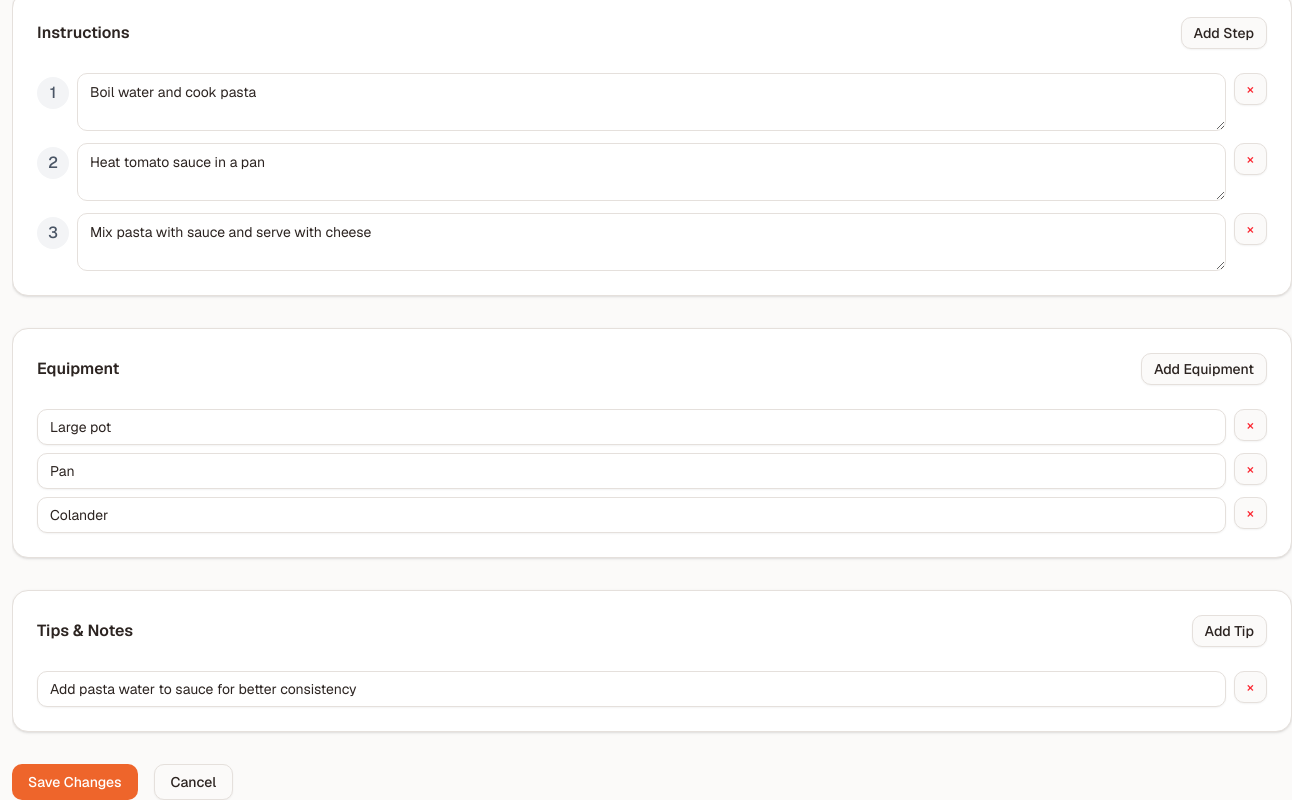
RecipeForm › adds tip when add button clicked
(page scrolled)
Click the button "Add Tip" at [1229, 631], box [1192,615,1267,647]
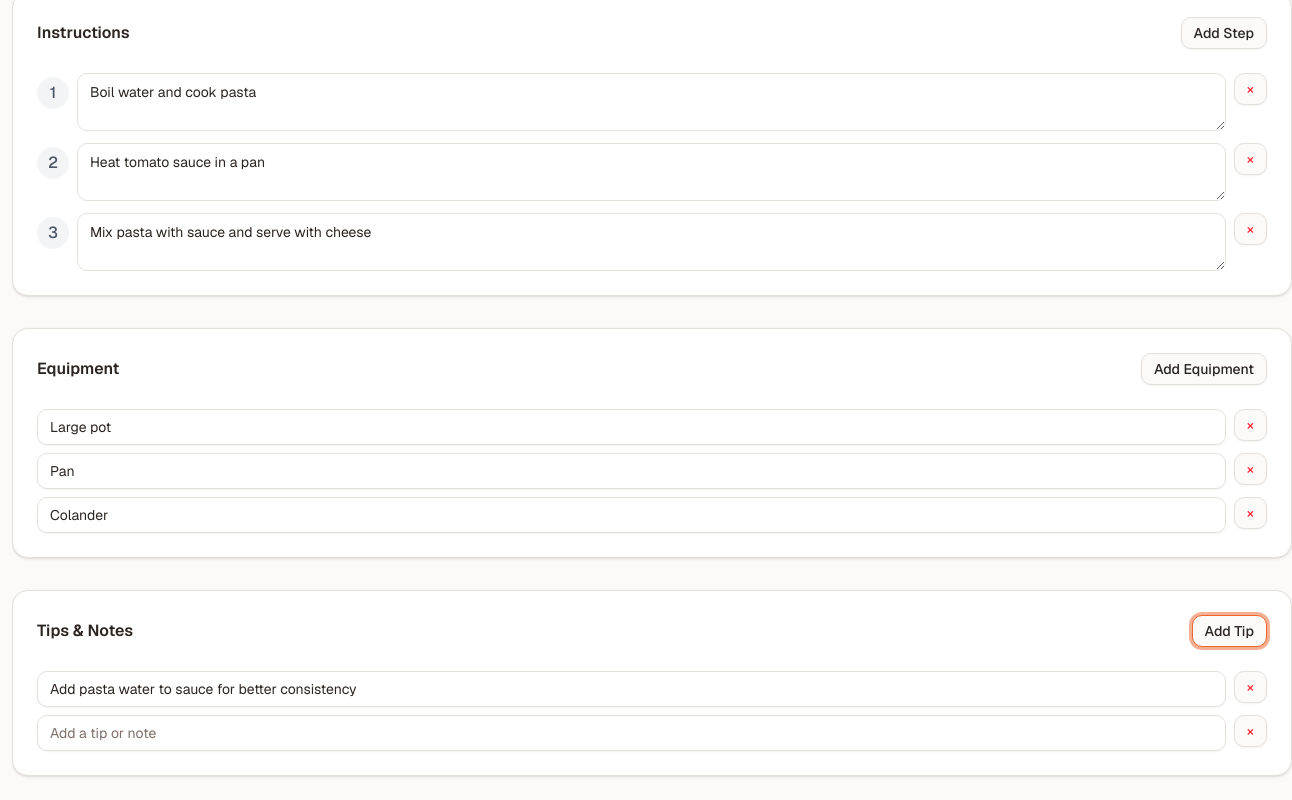
Expected: the number of fields with placeholder "Add a tip or note" is 2, [37,671,1226,707]; [37,715,1226,751]
